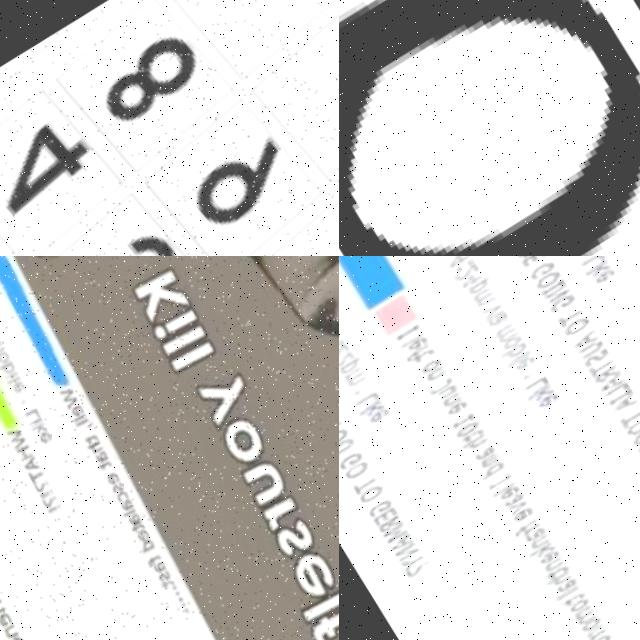0: (454, 416, 483, 440)
1: (449, 410, 476, 431)
2: (452, 262, 479, 284), (339, 351, 355, 370), (339, 341, 349, 363)
4: (0, 102, 110, 239), (456, 268, 484, 291), (443, 256, 471, 271)
5: (55, 210, 202, 256)
6: (339, 0, 640, 256)
8: (79, 16, 220, 144)
9: (170, 114, 315, 248)
A: (597, 370, 624, 394), (571, 327, 599, 350), (389, 531, 416, 554), (611, 392, 639, 414), (523, 522, 550, 544), (474, 442, 498, 463), (503, 488, 526, 509), (557, 576, 579, 593), (487, 311, 509, 327)
B: (500, 340, 528, 363)
D: (479, 458, 507, 481)
E: (372, 505, 400, 528), (366, 404, 393, 427), (446, 396, 470, 417), (513, 352, 537, 373), (499, 482, 523, 502), (512, 503, 536, 523), (406, 333, 429, 353), (594, 264, 617, 284), (537, 389, 560, 408), (540, 548, 562, 565), (518, 256, 549, 268)
F: (403, 341, 431, 363), (512, 516, 540, 537)
G: (525, 257, 556, 282), (339, 447, 367, 472), (547, 291, 576, 315), (367, 496, 394, 519)
H: (460, 431, 488, 455), (547, 566, 575, 589)
I: (393, 321, 421, 342), (487, 471, 513, 491), (607, 388, 633, 407), (581, 256, 608, 274), (505, 348, 529, 367), (357, 397, 382, 415), (480, 307, 504, 325), (526, 380, 550, 398), (540, 277, 564, 295)
J: (428, 375, 455, 396)
K: (527, 539, 556, 563), (584, 258, 613, 281), (358, 399, 386, 422), (527, 384, 554, 404)
L: (354, 389, 381, 412), (602, 379, 629, 402), (522, 374, 549, 395), (397, 331, 424, 351), (506, 350, 532, 370), (555, 583, 579, 602), (490, 481, 516, 498), (578, 256, 606, 269)
M: (493, 320, 519, 344), (383, 522, 410, 545), (343, 366, 368, 389), (472, 285, 497, 308), (574, 603, 599, 625)
N: (543, 281, 571, 305), (395, 540, 422, 563), (528, 532, 552, 552), (441, 389, 464, 409), (425, 364, 448, 383), (544, 554, 567, 573), (480, 452, 502, 469)
O: (561, 311, 593, 339), (357, 479, 388, 507), (344, 457, 373, 482), (533, 267, 562, 291), (419, 355, 443, 375), (569, 594, 592, 614), (580, 613, 604, 632), (623, 412, 640, 438), (501, 333, 524, 352), (630, 421, 640, 447), (339, 426, 350, 449), (591, 630, 615, 640)
P: (466, 274, 494, 296), (339, 355, 365, 377)
R: (593, 362, 621, 385), (378, 513, 403, 535), (521, 520, 542, 537), (586, 622, 607, 638), (588, 625, 609, 640)
S: (582, 345, 611, 370)
T: (555, 304, 584, 329), (352, 473, 380, 497), (586, 355, 614, 377), (544, 561, 570, 581), (619, 404, 640, 428), (562, 589, 587, 609), (412, 345, 437, 364), (460, 426, 485, 445)
U: (576, 337, 603, 360), (436, 381, 459, 401), (339, 434, 357, 458)
V: (480, 300, 504, 319), (508, 496, 531, 515)
Y: (400, 549, 427, 572), (339, 415, 345, 438)
